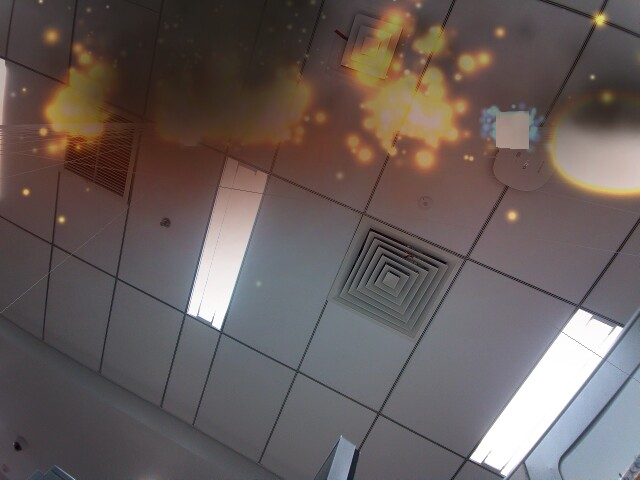fire: (544, 84, 640, 208), (153, 103, 200, 149)
